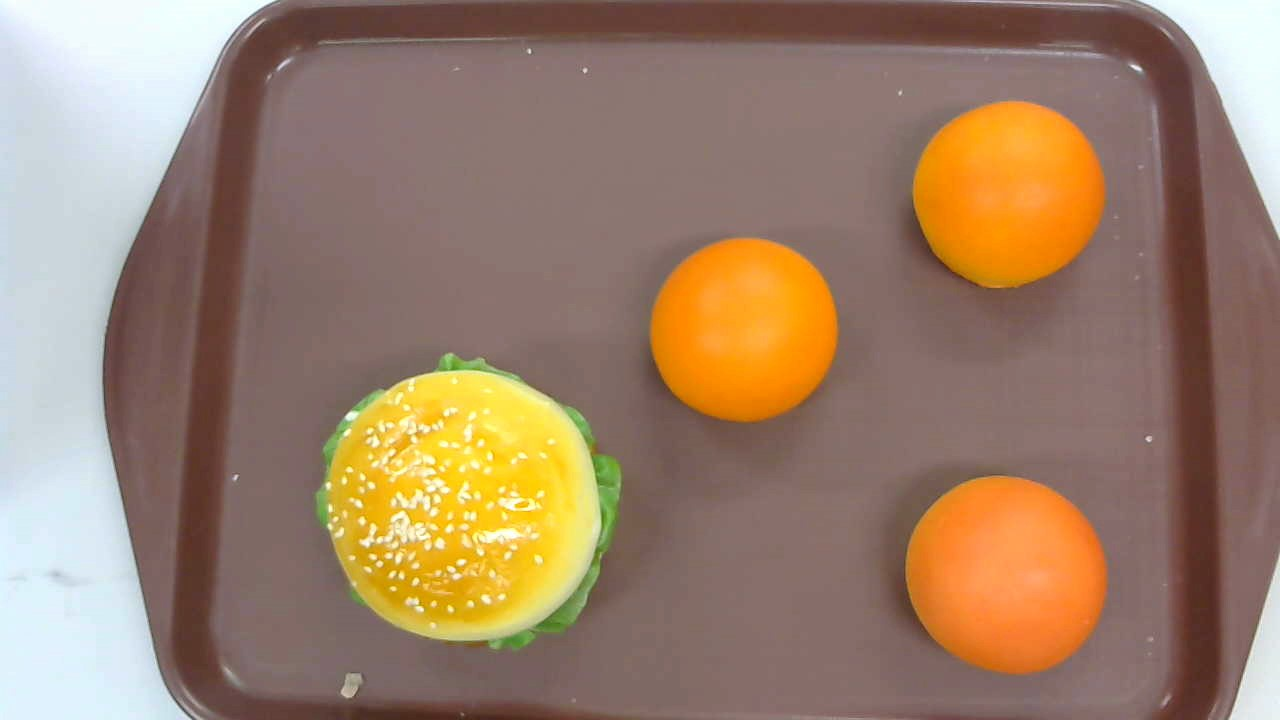bun: (904, 476, 1107, 674), (913, 99, 1104, 291), (649, 235, 837, 423)
hamburger: (313, 353, 623, 652)
